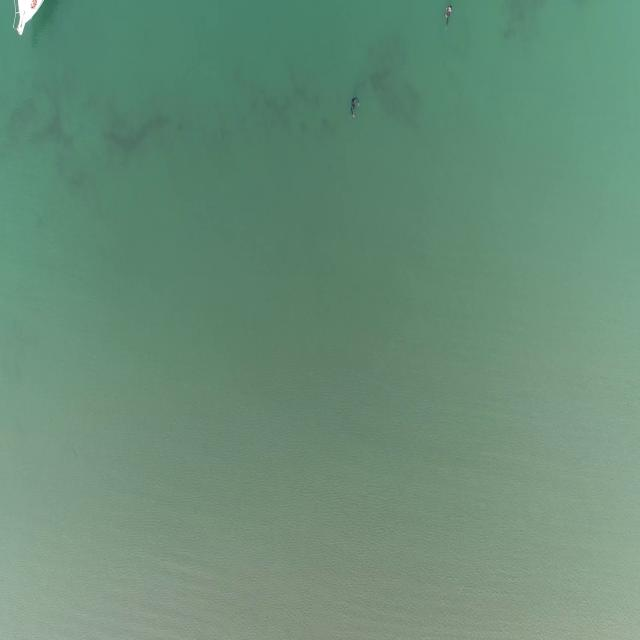person: (348, 96, 362, 119), (443, 6, 454, 27)
